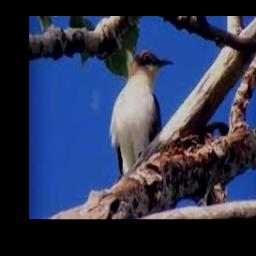Cuckoo: (110, 51, 175, 176)
